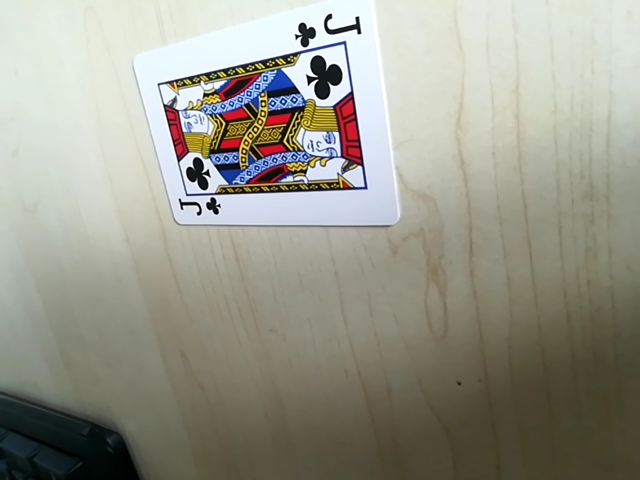mh j: (294, 9, 363, 47), (169, 192, 219, 224)
